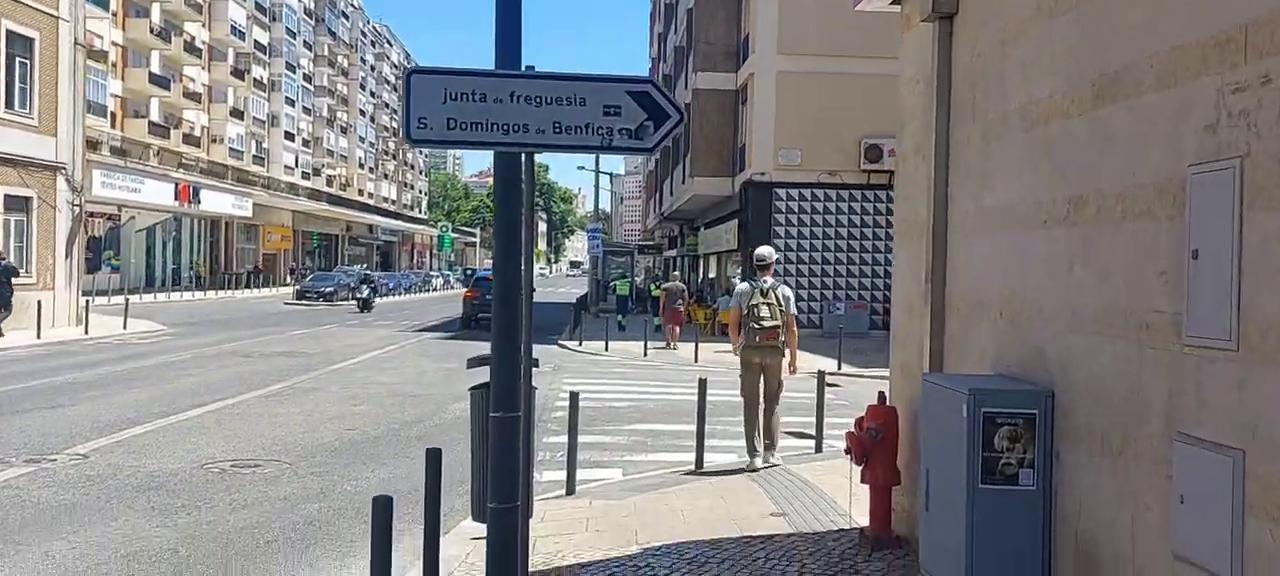direcao de via de acesso: (400, 66, 688, 161)
